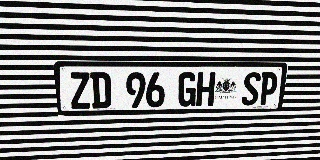6: (146, 72, 165, 107)
9: (126, 72, 145, 108)
D: (90, 72, 111, 108)
G: (177, 72, 197, 107)
H: (196, 72, 216, 106)
P: (258, 72, 279, 105)
S: (241, 72, 261, 105)
Z: (69, 72, 91, 109)
